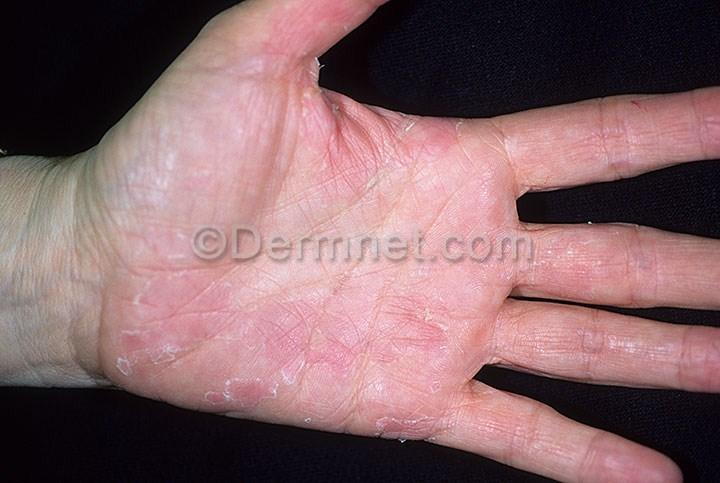Eczema: (322, 263, 446, 389), (92, 272, 214, 388), (211, 299, 327, 411), (321, 112, 444, 214), (483, 123, 601, 197), (533, 206, 623, 299), (530, 313, 649, 383), (605, 92, 720, 163), (461, 398, 557, 473), (630, 228, 720, 300), (343, 383, 445, 443), (243, 13, 329, 72), (589, 420, 665, 483), (669, 321, 720, 383)
